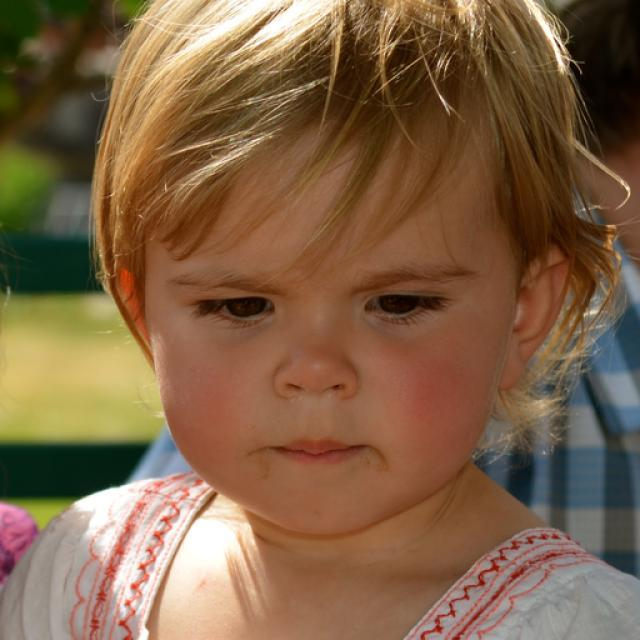sad: (145, 130, 506, 535)
